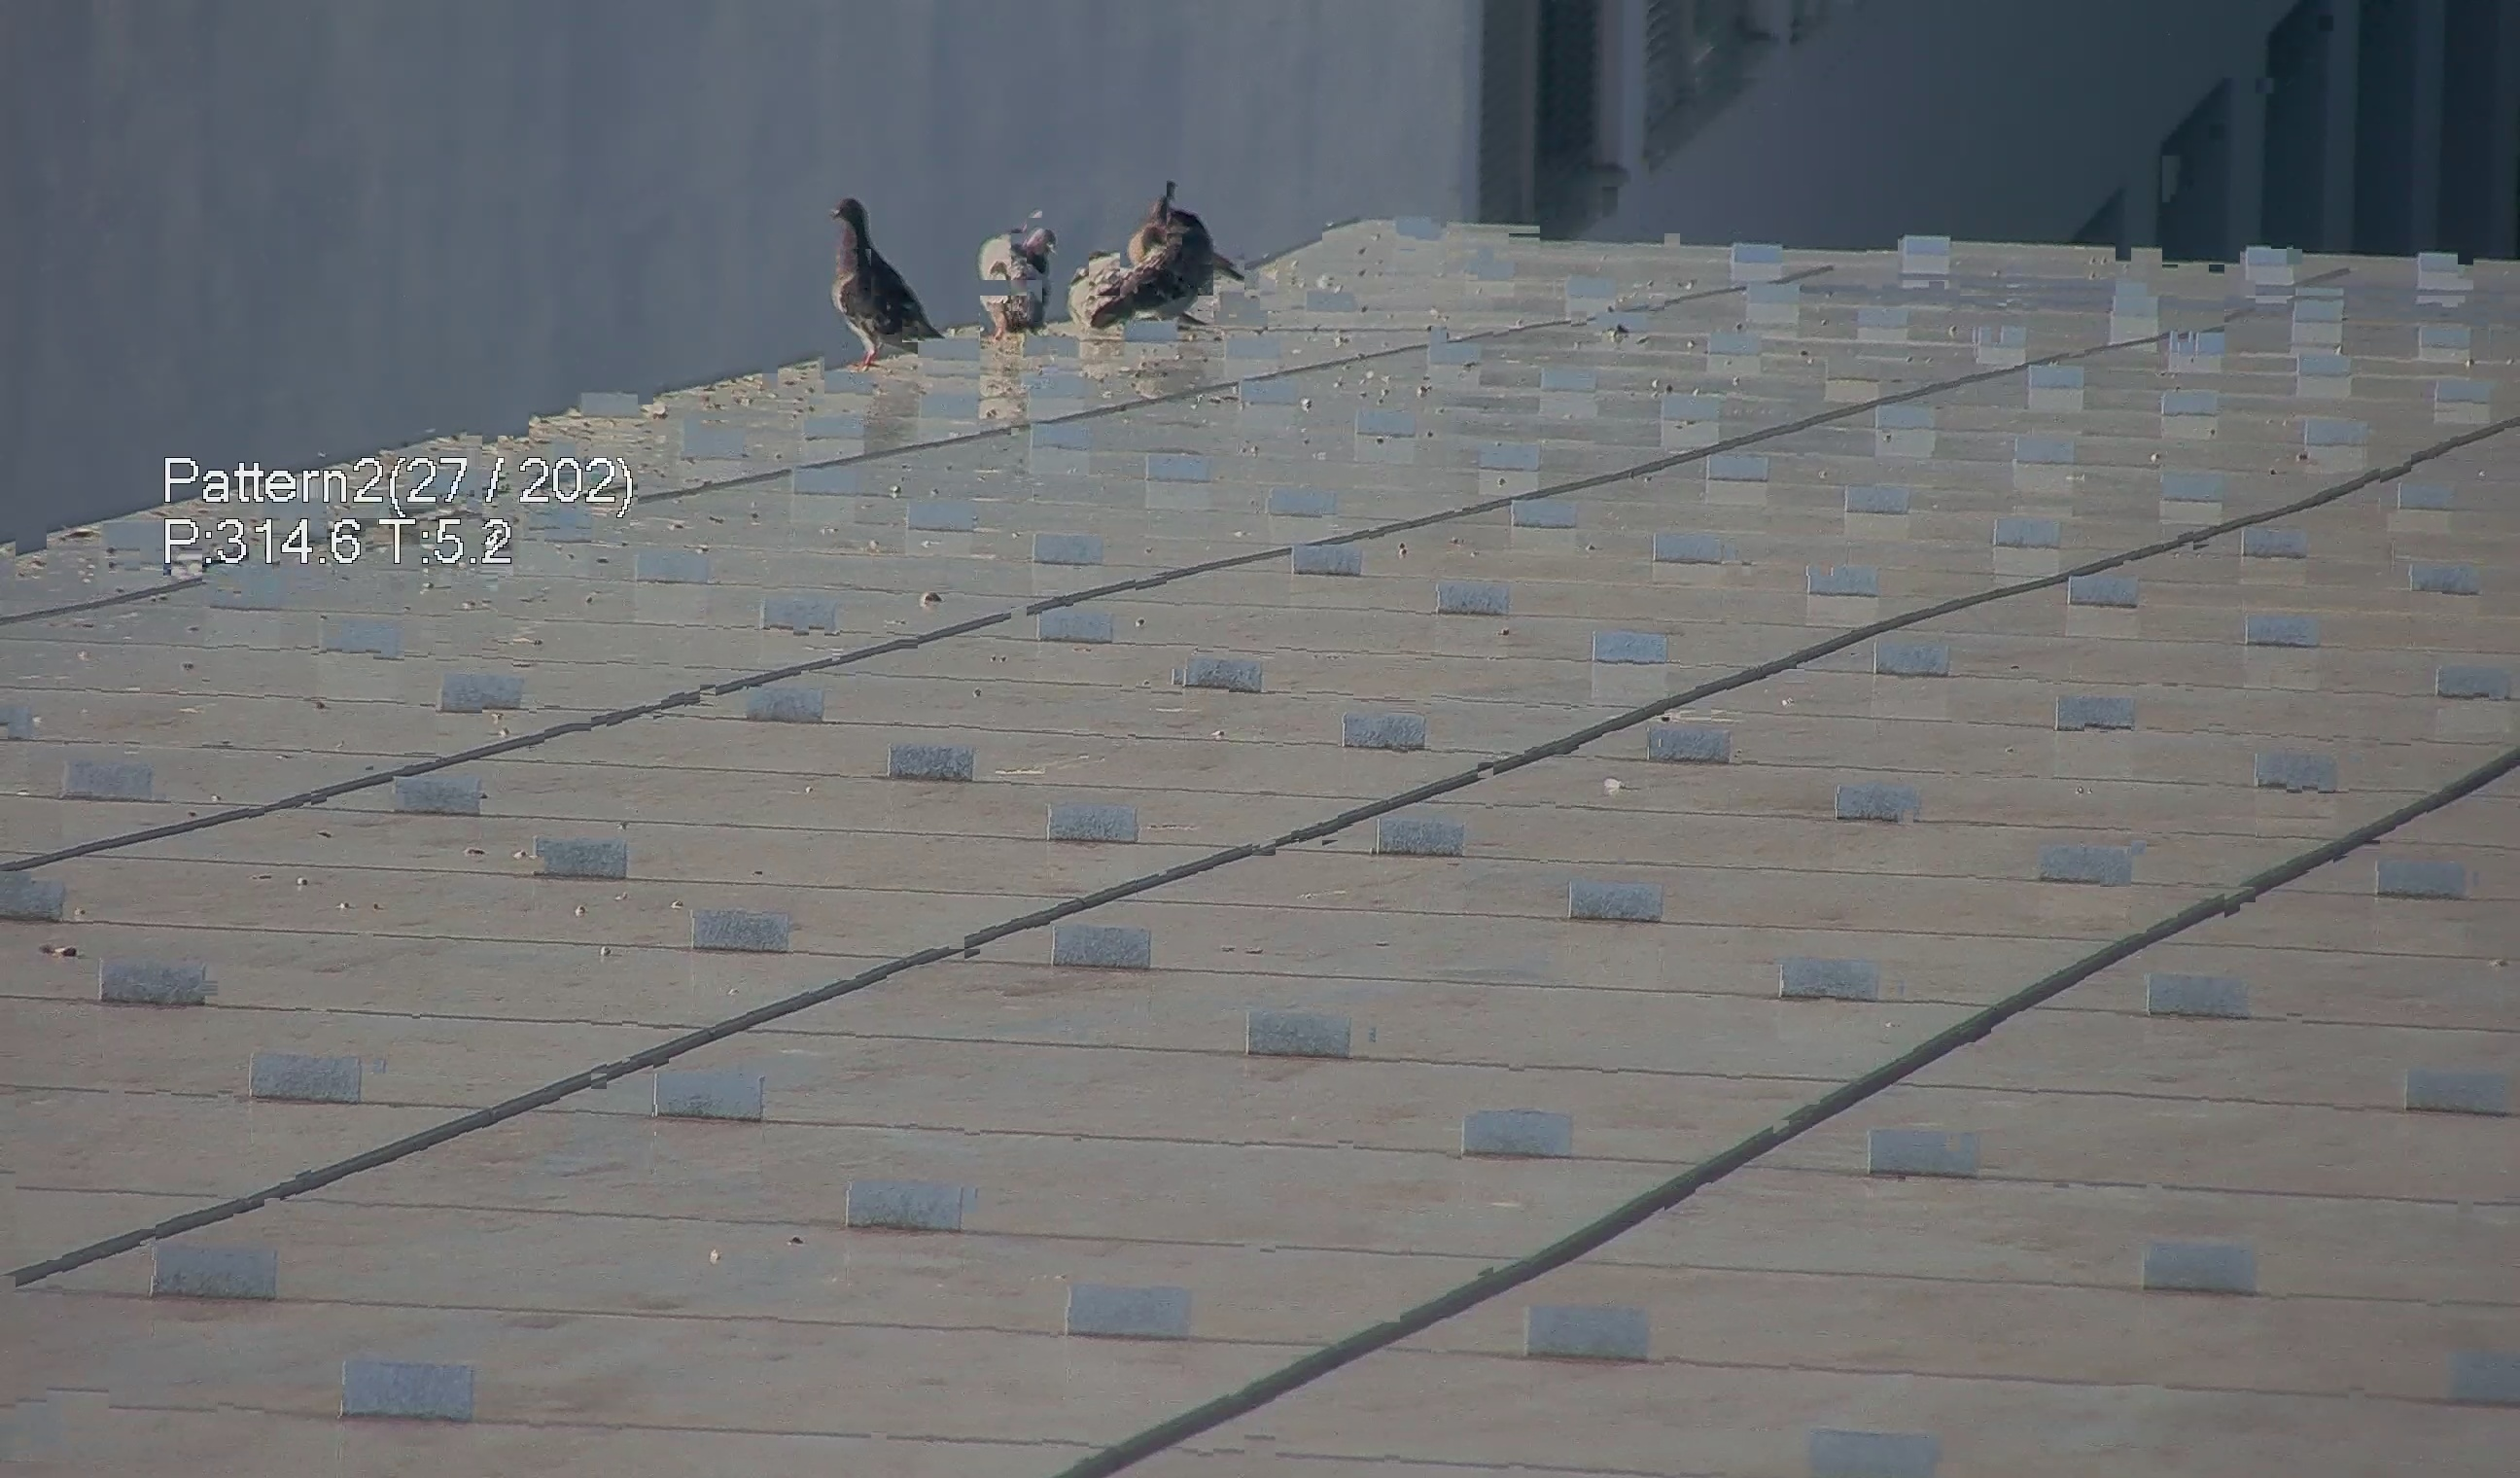Pigeon: (1069, 169, 1252, 336), (804, 181, 941, 359), (967, 215, 1062, 347), (1062, 252, 1125, 334)
